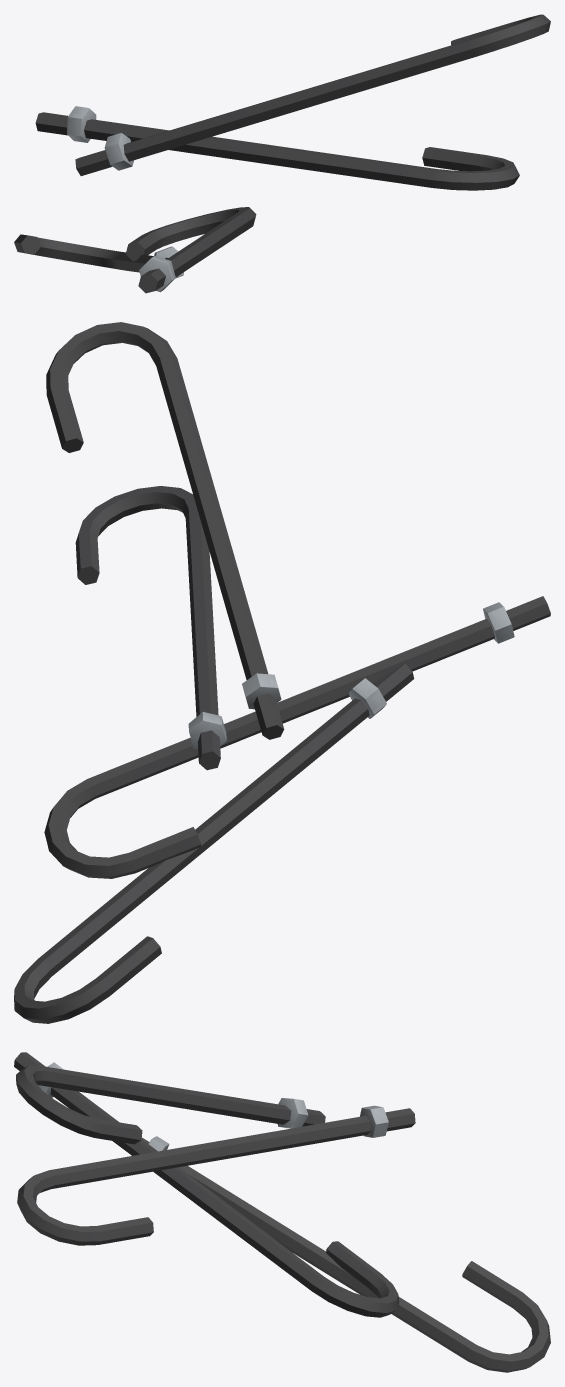
Rendered from EST-MET-007_anim.glb.
3 renders of one model, top to bottom at view 1: azimuth 30°, elevation 25°; view 2: azimuth 150°, elevation 25°; view 3: azimuth 270°, elevation 25°, orthographic. The views are drawn at different scales.
Visible parts, largest first — view 1: EST-MET-007_anim2, EST-MET-007_anim3, EST-MET-007_anim1, EST-MET-007_anim0; view 2: EST-MET-007_anim0, EST-MET-007_anim1, EST-MET-007_anim3, EST-MET-007_anim2; view 3: EST-MET-007_anim2, EST-MET-007_anim3, EST-MET-007_anim1, EST-MET-007_anim0.
Part boxes in pixels (bbox=[...]): EST-MET-007_anim2: bbox=[35, 106, 519, 190]; EST-MET-007_anim3: bbox=[75, 14, 550, 175]; EST-MET-007_anim1: bbox=[125, 207, 256, 293]; EST-MET-007_anim0: bbox=[14, 234, 183, 278]; EST-MET-007_anim0: bbox=[14, 663, 414, 1023]; EST-MET-007_anim1: bbox=[44, 596, 550, 878]; EST-MET-007_anim3: bbox=[46, 322, 284, 739]; EST-MET-007_anim2: bbox=[75, 486, 226, 770]; EST-MET-007_anim2: bbox=[17, 1105, 415, 1245]; EST-MET-007_anim3: bbox=[16, 1065, 325, 1144]; EST-MET-007_anim1: bbox=[14, 1052, 399, 1317]; EST-MET-007_anim0: bbox=[141, 1136, 550, 1372].
Size of the model in its own units: 0.3856 by 0.3379 by 0.4424.
2 materials, 2 textured.
